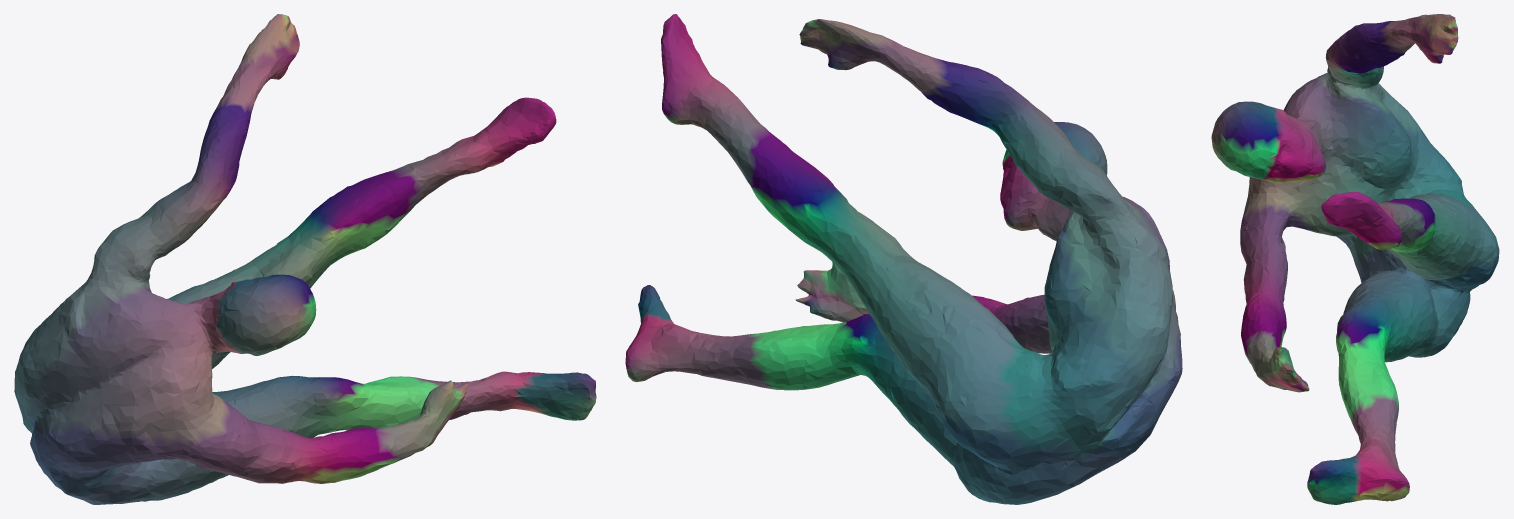
The model's file is man-11.off.obj.
3 views of the same model, side by side, from view 1: azimuth 30°, elevation 25°; view 2: azimuth 150°, elevation 25°; view 3: azimuth 270°, elevation 25° (orthographic). The views are drawn at different scales.
Bounding box in the file's own units: 1.38 × 1.07 × 0.6931.
